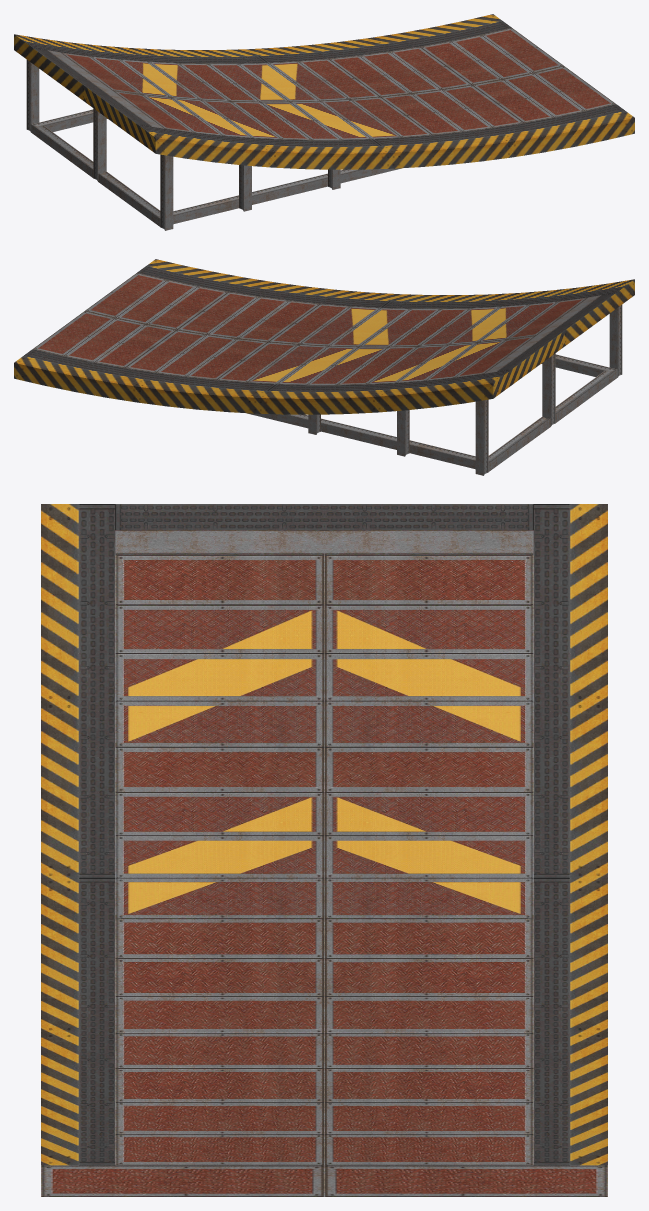
Rendered from prop_ramp_metal.fbx.
3 views of the same model, one above another, from view 1: azimuth 30°, elevation 25°; view 2: azimuth 150°, elevation 25°; view 3: azimuth 270°, elevation 25° (orthographic). The views are drawn at different scales.
Visible parts, largest first — view 1: prop_ramp_metal_ramp_LOD1; view 2: prop_ramp_metal_ramp_LOD1; view 3: prop_ramp_metal_ramp_LOD1.
Boxes of the visible parts, <box> form: prop_ramp_metal_ramp_LOD1: <box>14,14,634,230</box>; prop_ramp_metal_ramp_LOD1: <box>14,259,634,475</box>; prop_ramp_metal_ramp_LOD1: <box>41,504,607,1196</box>.
Size of the model in its own units: 11.71 by 6 by 2.63.
